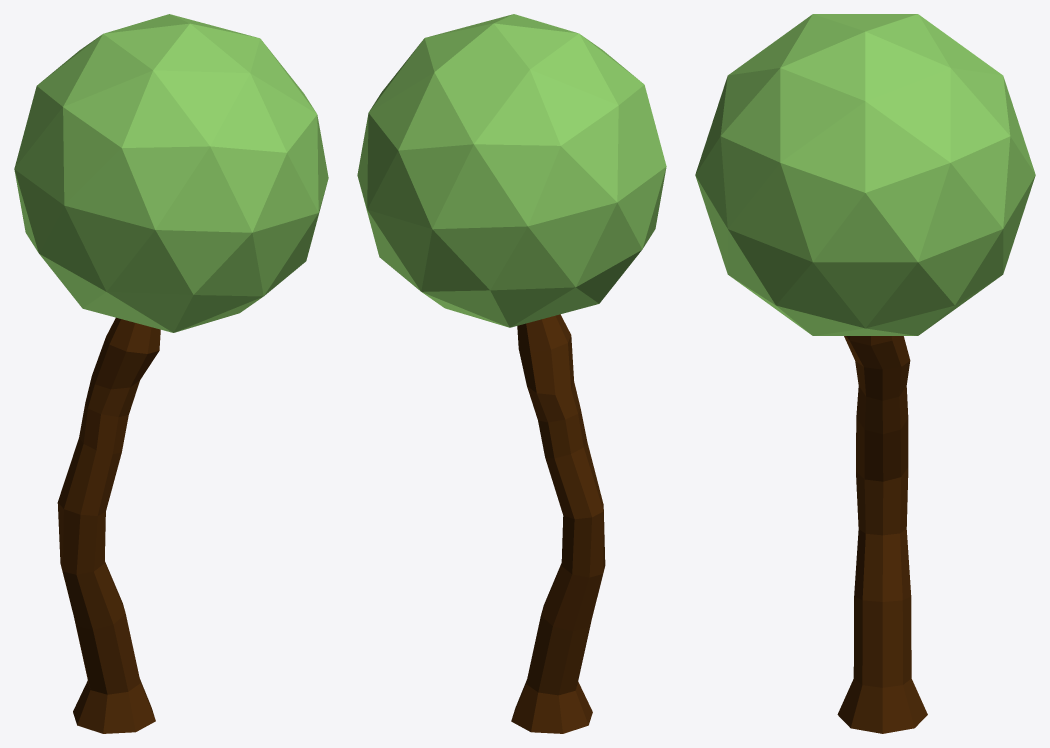
File: Tree_04.fbx
3 renders of one model, left to right at view 1: azimuth 30°, elevation 25°; view 2: azimuth 150°, elevation 25°; view 3: azimuth 270°, elevation 25°, orthographic. The views are drawn at different scales.
Parts seen in each view (by area): view 1: Tree_04; view 2: Tree_04; view 3: Tree_04.
Boxes of the visible parts, bbox=[...] form: Tree_04: bbox=[14, 14, 328, 733]; Tree_04: bbox=[357, 14, 666, 733]; Tree_04: bbox=[695, 14, 1035, 733].
Size of the model in its own units: 205 by 504 by 217.
